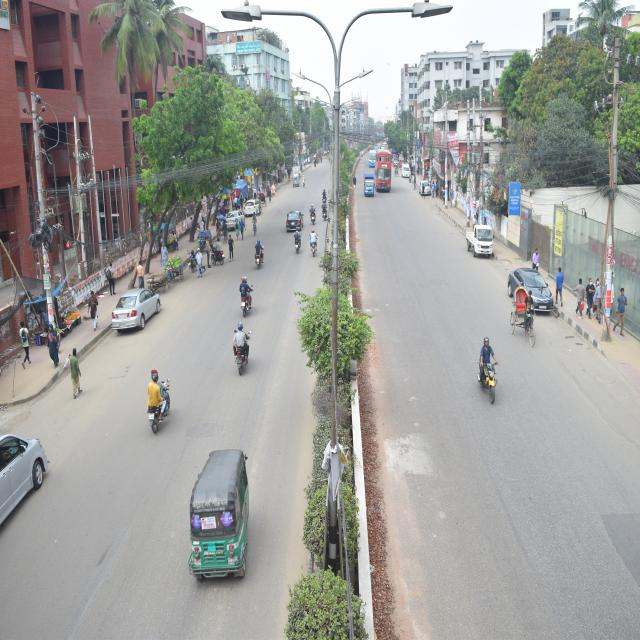bus: (375, 143, 397, 204), (366, 145, 379, 173)
car: (0, 415, 70, 540), (507, 259, 568, 344), (105, 276, 174, 347), (219, 200, 244, 239), (414, 173, 440, 208), (282, 200, 304, 236), (240, 194, 262, 225)
motorbike: (454, 313, 515, 434), (224, 316, 261, 409), (229, 264, 259, 328), (250, 241, 268, 285), (290, 225, 307, 266), (307, 230, 320, 264), (306, 195, 317, 235), (317, 200, 327, 221), (321, 189, 328, 206)
pickup-van: (449, 212, 499, 269), (359, 166, 376, 209)
